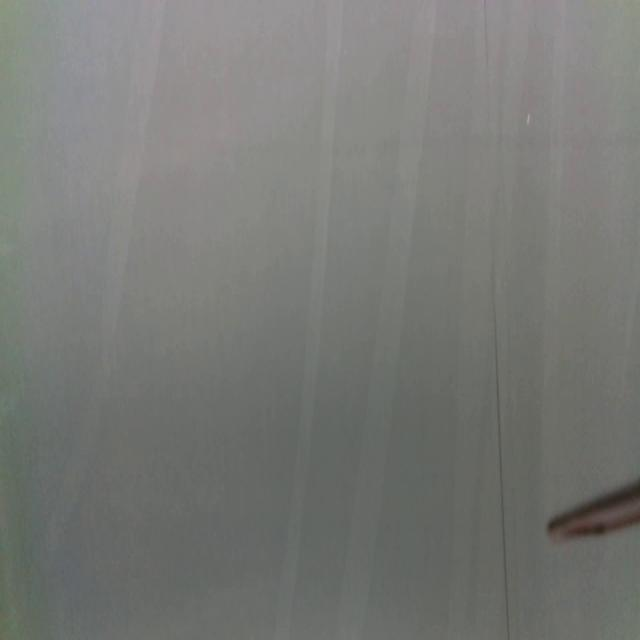color bleeding: (212, 124, 640, 165)
crease: (35, 0, 166, 560), (339, 0, 437, 635), (275, 0, 345, 640), (532, 0, 570, 507), (482, 1, 511, 640)
hole: (526, 112, 532, 126)
